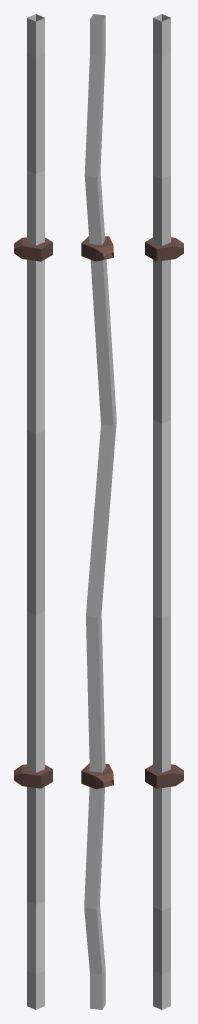
File: SM_Wall_Cable_Vertical_A.fbx
3 views of the same model, side by side, from view 1: azimuth 90°, elevation 25°; view 2: azimuth 210°, elevation 25°; view 3: azimuth 270°, elevation 25° (orthographic).
Parts seen in each view (by area): view 1: SM_Wall_Cable_Vertical_A; view 2: SM_Wall_Cable_Vertical_A; view 3: SM_Wall_Cable_Vertical_A.
Boxes of the visible parts, box(x1,y1,x2,y2) form: SM_Wall_Cable_Vertical_A: box(14, 14, 52, 1009); SM_Wall_Cable_Vertical_A: box(81, 14, 116, 1009); SM_Wall_Cable_Vertical_A: box(145, 14, 183, 1009).
Bounding box in the file's own units: 10.44 × 300 × 10.7.
